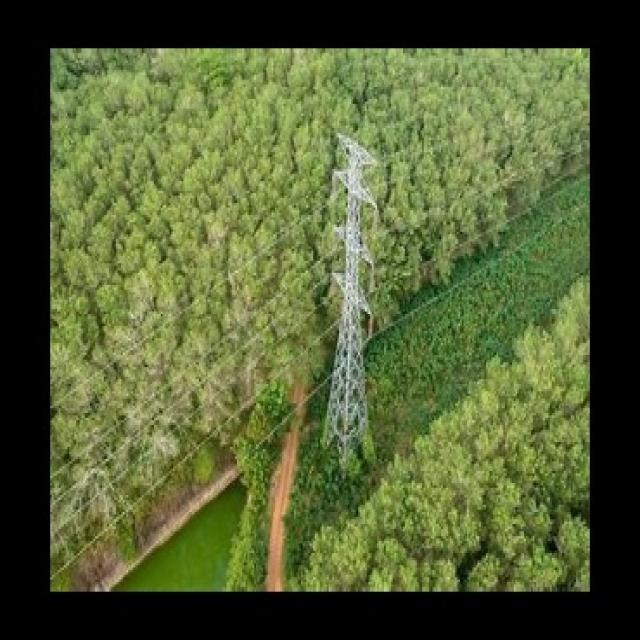utility poles: (315, 120, 401, 466)
